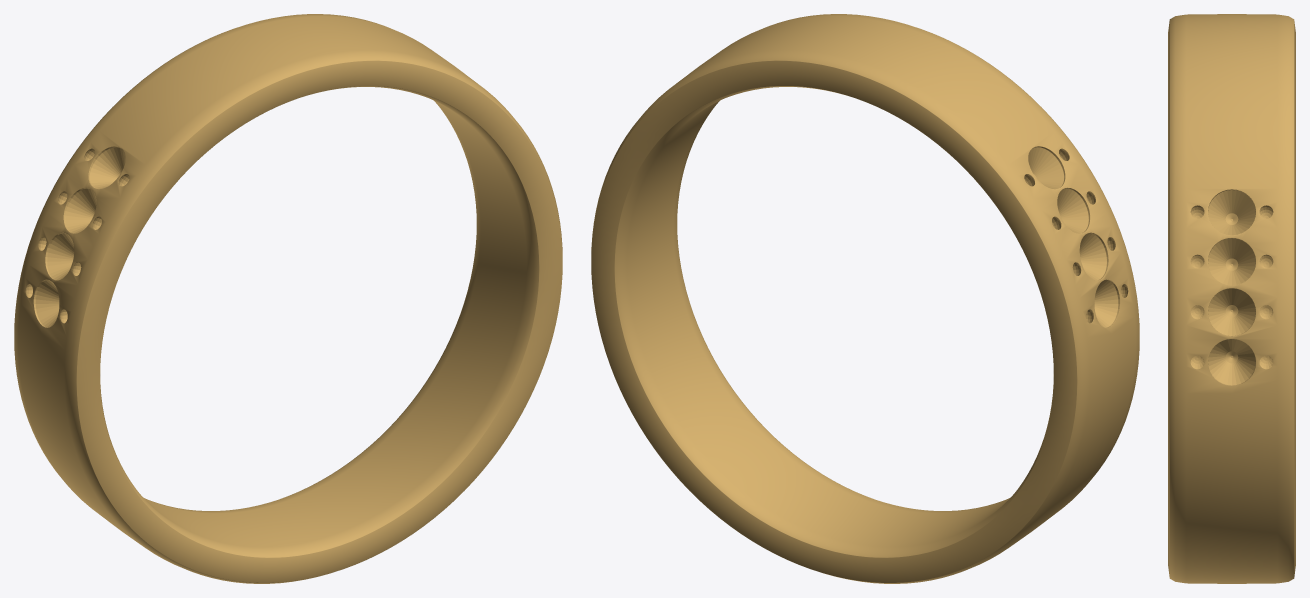
File: wide-scalloped-u-cut-head.glb
3 views of the same model, side by side, from view 1: azimuth 30°, elevation 25°; view 2: azimuth 150°, elevation 25°; view 3: azimuth 270°, elevation 25° (orthographic).
Parts seen in each view (by area): view 1: Band; view 2: Band; view 3: Band.
Boxes of the visible parts, x1,y1,x2,y2 form: Band: (14, 14, 562, 583); Band: (591, 14, 1139, 583); Band: (1168, 14, 1295, 583).
Size of the model in its own units: 19.6 by 19.6 by 4.4.
